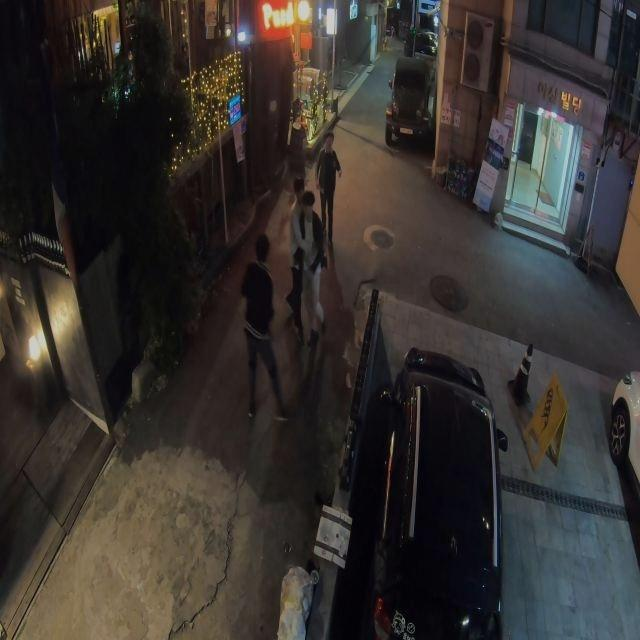fight: (240, 231, 293, 422), (291, 190, 328, 342)
non-fight: (282, 182, 313, 342), (315, 134, 340, 245)
